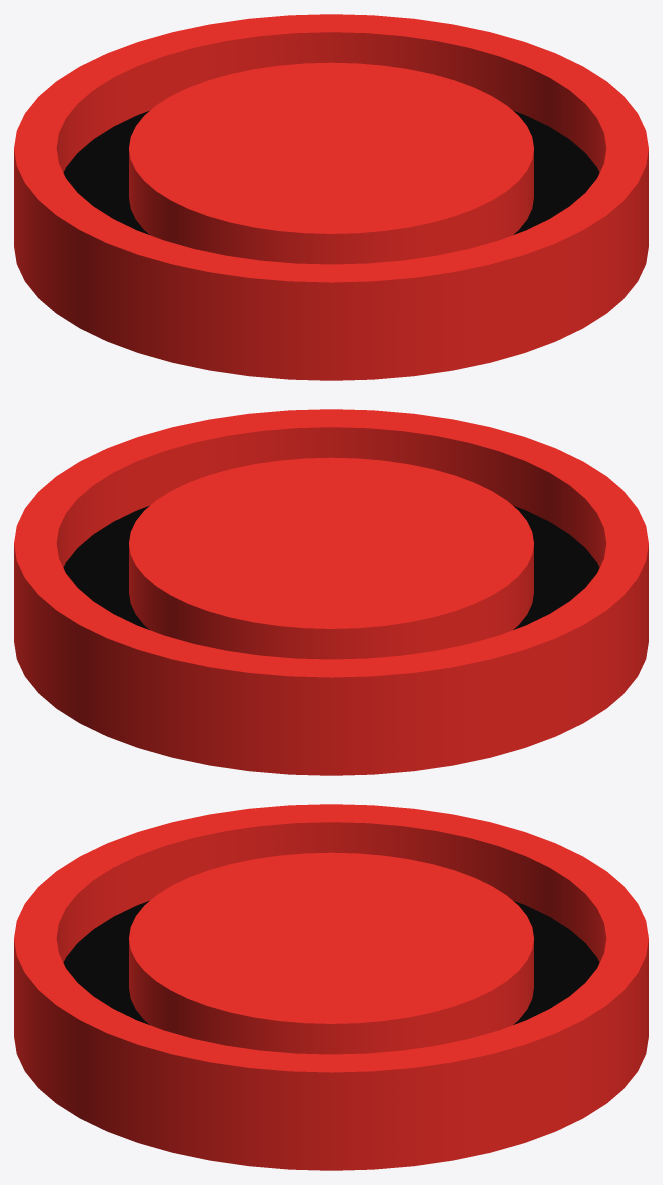
File: Performance-Poor.FBX
3 renders of one model, top to bottom at view 1: azimuth 30°, elevation 25°; view 2: azimuth 150°, elevation 25°; view 3: azimuth 270°, elevation 25°, orthographic.
Visible parts, largest first — view 1: Poor-Perf_LOD0; view 2: Poor-Perf_LOD0; view 3: Poor-Perf_LOD0.
Part boxes in pixels (box(x1,y1,x2,y2)): Poor-Perf_LOD0: box(14, 14, 648, 380); Poor-Perf_LOD0: box(14, 409, 648, 775); Poor-Perf_LOD0: box(14, 804, 648, 1170).
Size of what is drawn, in the model's own units: 0.575 by 0.0982 by 0.575.
